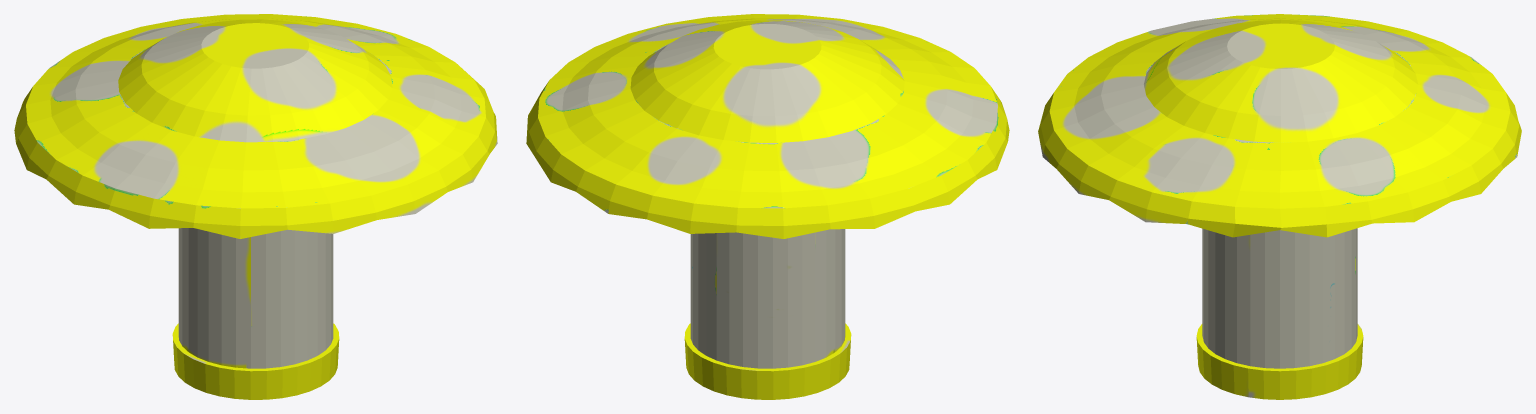
The model's file is YellowMushroom.fbx.
The picture shows the model from 3 angles, left to right: view 1: azimuth 30°, elevation 25°; view 2: azimuth 150°, elevation 25°; view 3: azimuth 270°, elevation 25°; orthographic projection.
Visible parts, largest first — view 1: Cylinder; view 2: Cylinder; view 3: Cylinder.
Part boxes in pixels (box(x1,y1,x2,y2)): Cylinder: box(14, 14, 497, 399); Cylinder: box(526, 14, 1009, 399); Cylinder: box(1038, 14, 1521, 399).
Size of the model in its own units: 308 by 224 by 307.
